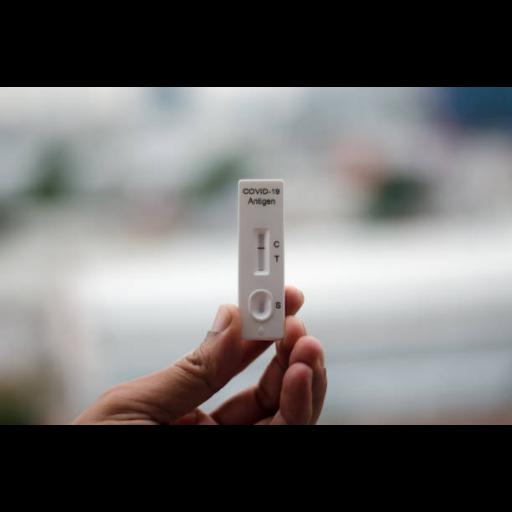Neg: (237, 180, 283, 336)
